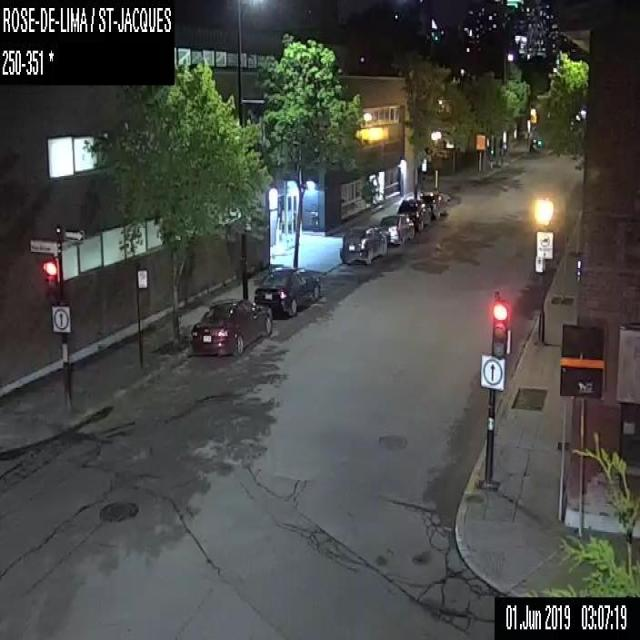construction: (474, 133, 485, 170)
vehicle: (189, 296, 273, 359), (253, 266, 321, 321), (340, 224, 390, 265), (395, 198, 432, 230), (378, 212, 415, 244), (419, 189, 452, 218), (530, 130, 547, 152)
